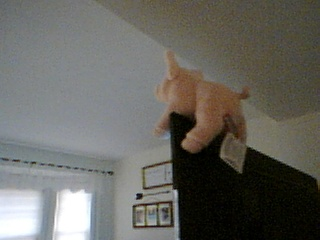piggy: (151, 48, 252, 155)
